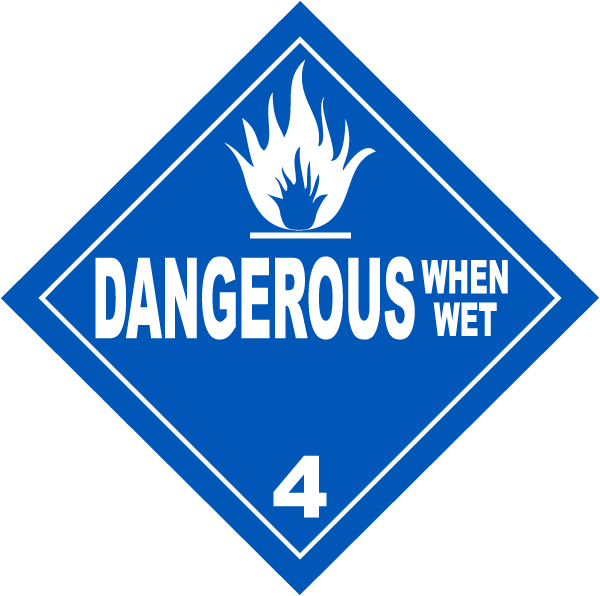DangerousWhenWet: (25, 19, 583, 561)
